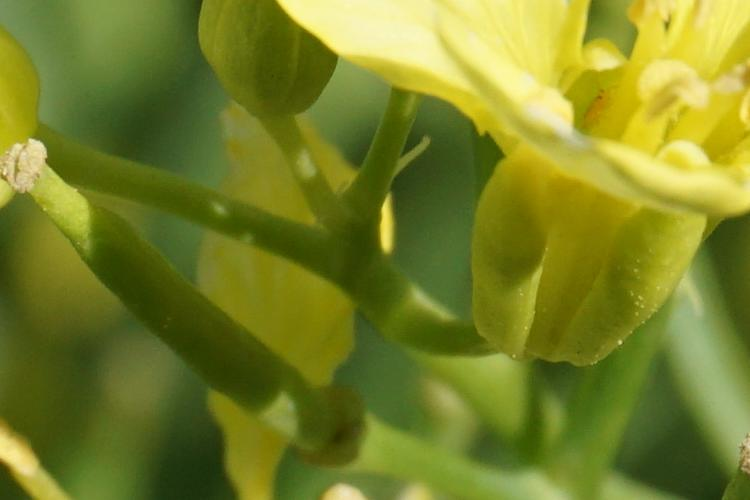bud: (196, 2, 347, 121)
pod: (1, 131, 299, 408)
yellow: (282, 1, 750, 374)
